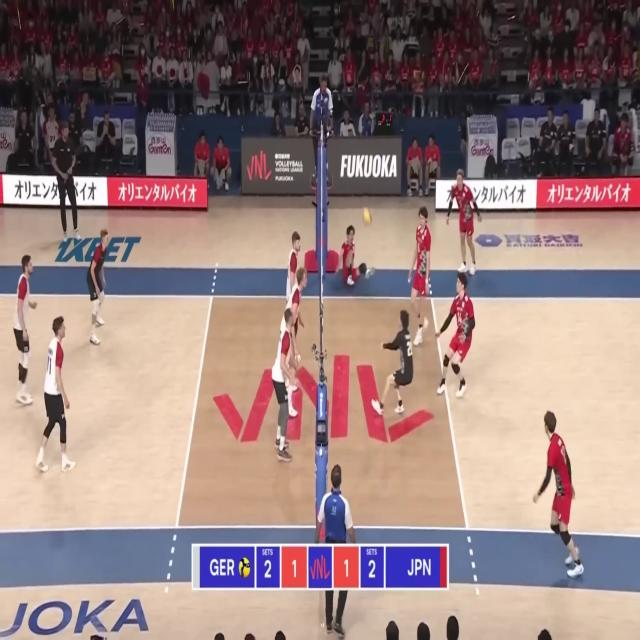referee: (316, 465, 355, 637)
team_one: (35, 316, 77, 474), (11, 252, 38, 404), (272, 308, 294, 462), (282, 268, 304, 416), (85, 228, 108, 348), (284, 234, 302, 314)
team_two: (533, 408, 586, 579), (435, 274, 474, 397), (371, 309, 414, 418), (444, 168, 481, 276), (408, 207, 432, 346), (338, 226, 375, 290)
